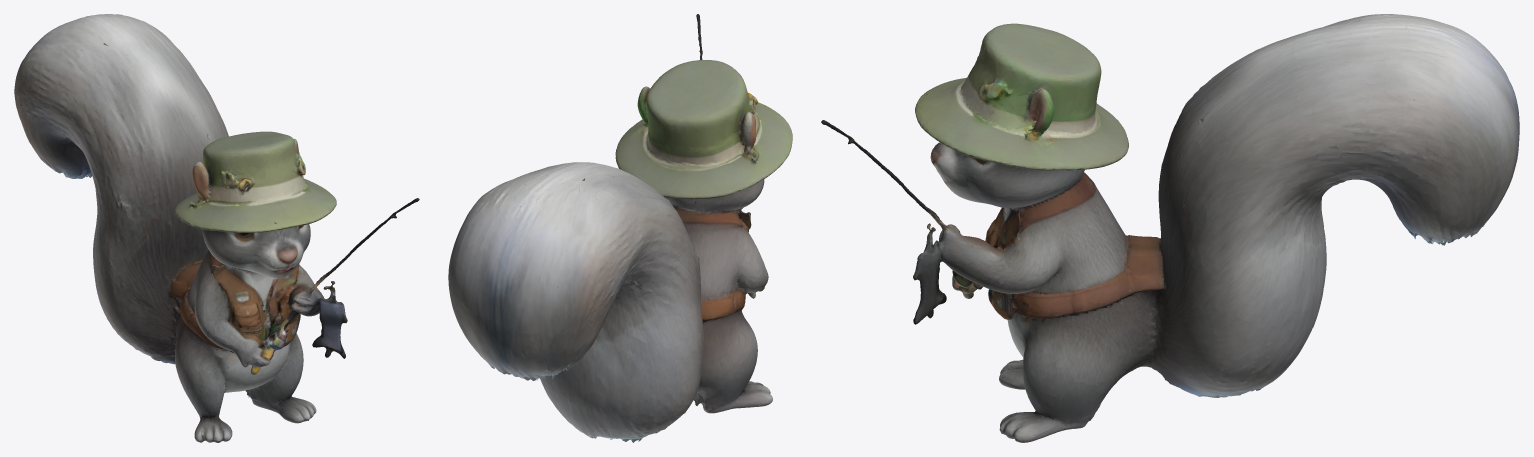
File: fishing_squirrel.glb
The picture shows the model from 3 angles, left to right: view 1: azimuth 30°, elevation 25°; view 2: azimuth 150°, elevation 25°; view 3: azimuth 270°, elevation 25°; orthographic projection. The views are drawn at different scales.
Visible parts, largest first — view 1: output_unwrapped; view 2: output_unwrapped; view 3: output_unwrapped.
Part boxes in pixels (x1,y1,x2,y2): output_unwrapped: (14,14,419,442); output_unwrapped: (448,14,792,442); output_unwrapped: (821,14,1519,442).
Bounding box in the file's own units: 0.6227 × 1.11 × 1.84.
Materials: 1 (1 with a texture image).
